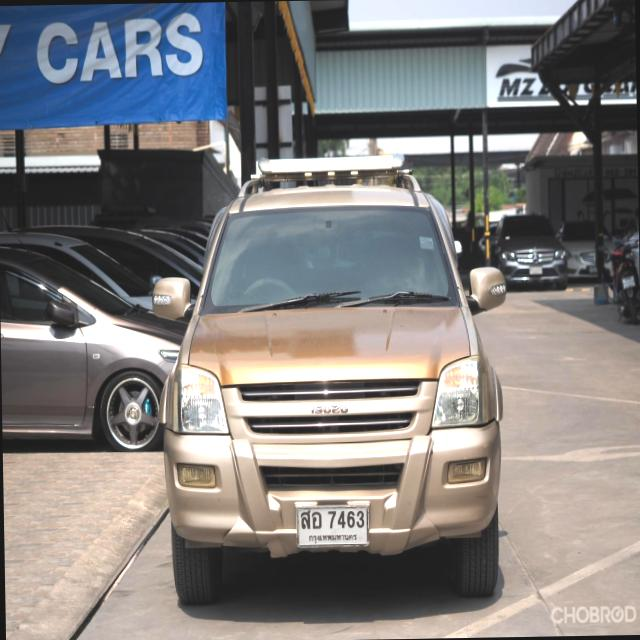license_plate: (295, 497, 370, 552), (621, 274, 638, 292), (528, 262, 543, 276), (586, 262, 599, 274)
